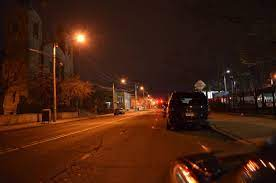HPS: (62, 29, 94, 50)
